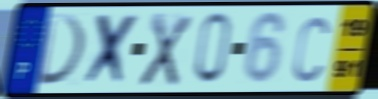0: (192, 11, 233, 88)
6: (241, 9, 290, 89)
C: (291, 13, 332, 84)
D: (34, 12, 89, 88)
X: (80, 11, 142, 88), (136, 11, 194, 89)
